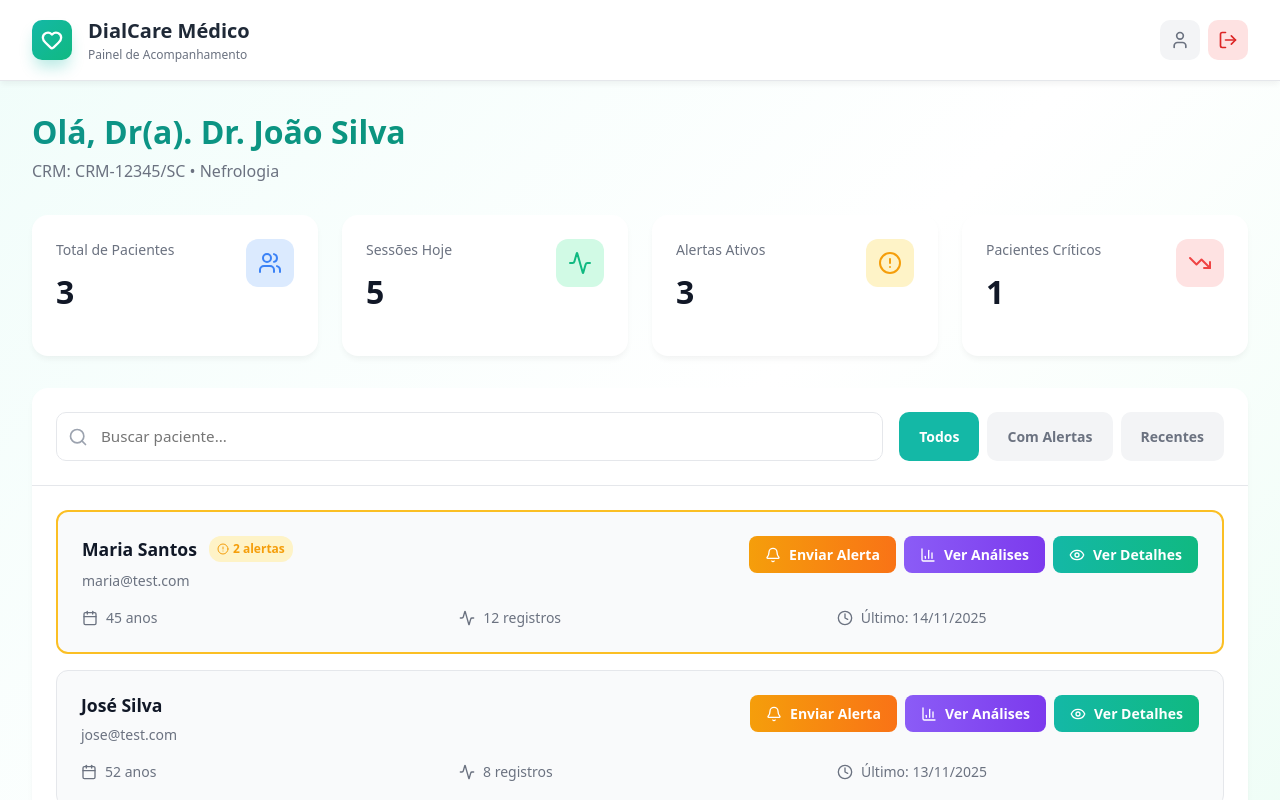
DoctorDashboard › Filtros e Busca › deve filtrar por "Com Alertas"
Expected: the heading "Maria Santos" is shown, [82, 539, 197, 560]
What coordinates should you click on to do the following:
click the button "Com Alertas"
I would click on:
 (1050, 437)
Its box is [988, 412, 1112, 461].
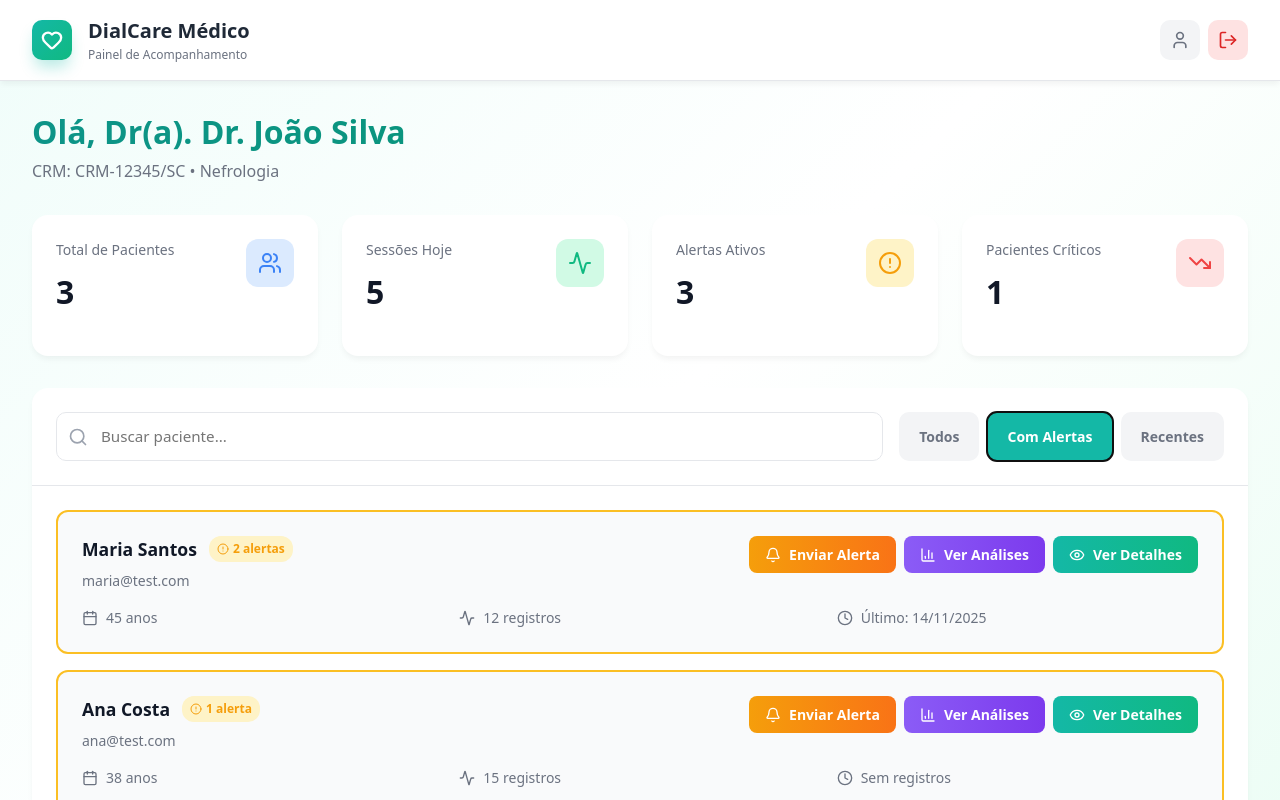
Expected: the heading "Maria Santos" is shown, [82, 539, 197, 560]
Expected: the heading "José Silva" is gone
